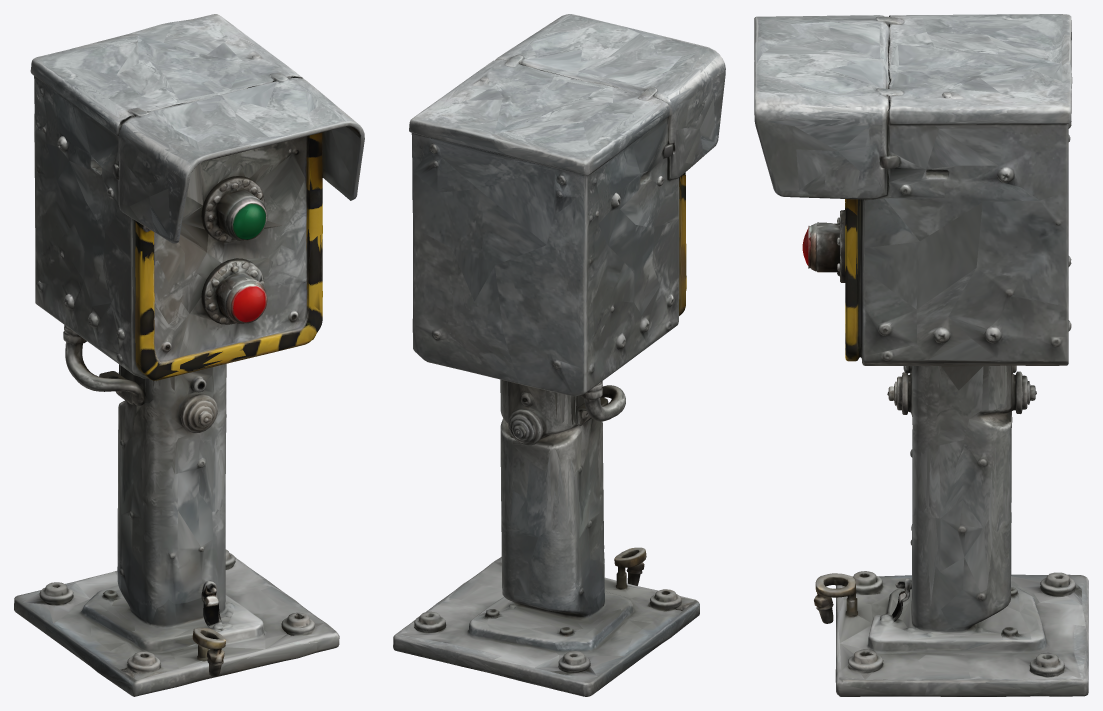
File: gate_control_box.fbx
3 renders of one model, left to right at view 1: azimuth 30°, elevation 25°; view 2: azimuth 150°, elevation 25°; view 3: azimuth 270°, elevation 25°, orthographic. The views are drawn at different scales.
Visible parts, largest first — view 1: gate_control_box; view 2: gate_control_box; view 3: gate_control_box.
Part boxes in pixels (x1=…): gate_control_box: x1=14, y1=14, x2=364, y2=696; gate_control_box: x1=393, y1=14, x2=725, y2=696; gate_control_box: x1=754, y1=14, x2=1088, y2=696.
Bounding box in the file's own units: 0.5263 × 1.35 × 0.693.
1 material, 1 textured.
